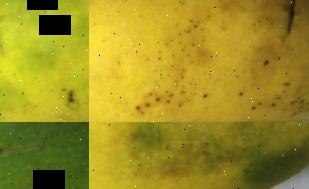PartiallyRipe: (0, 0, 89, 122)
Ripe: (89, 0, 309, 122), (89, 122, 309, 189)
Unripe: (0, 122, 89, 189)
